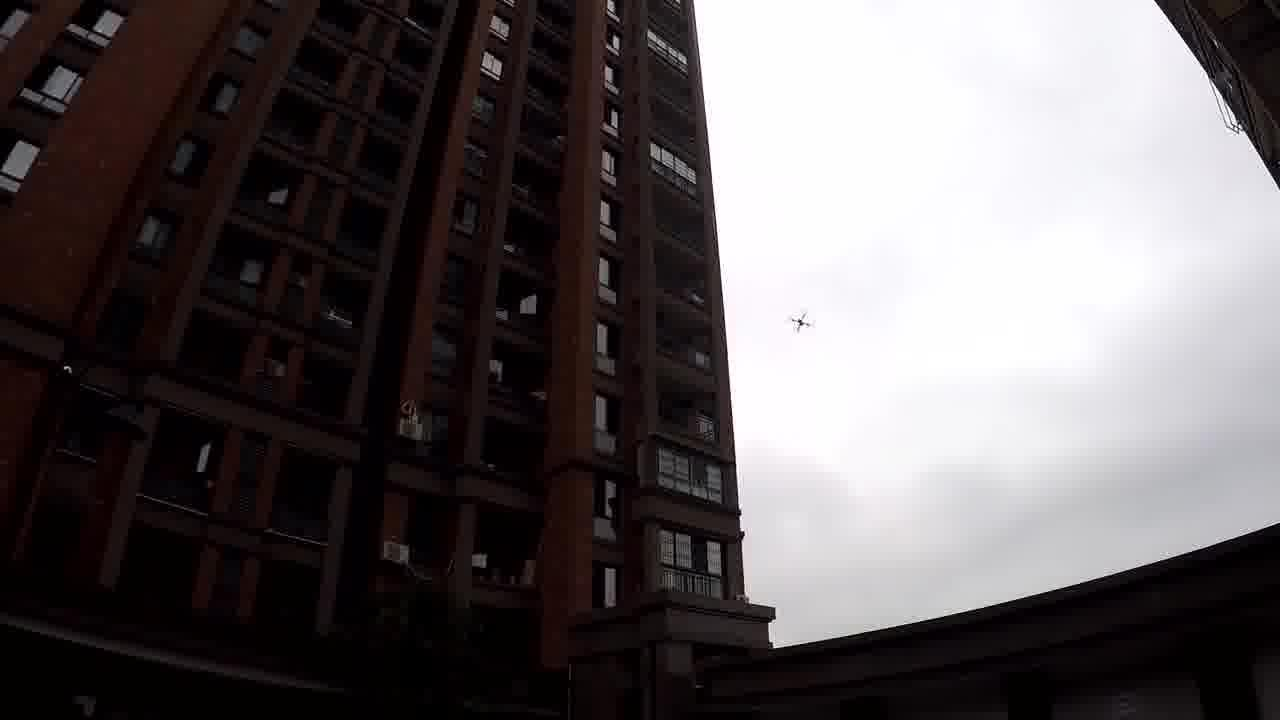drone: (787, 307, 813, 336)
